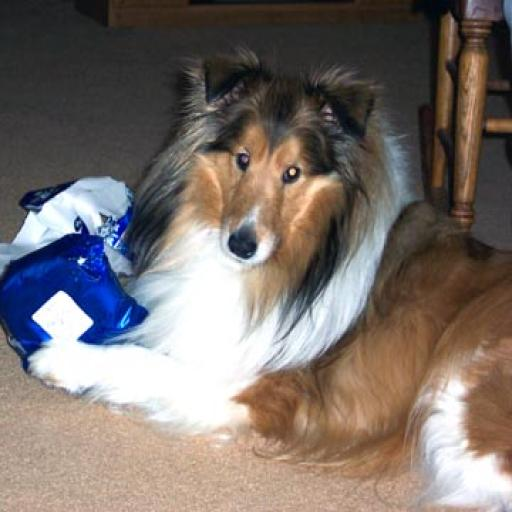dog_face: (190, 57, 373, 265)
